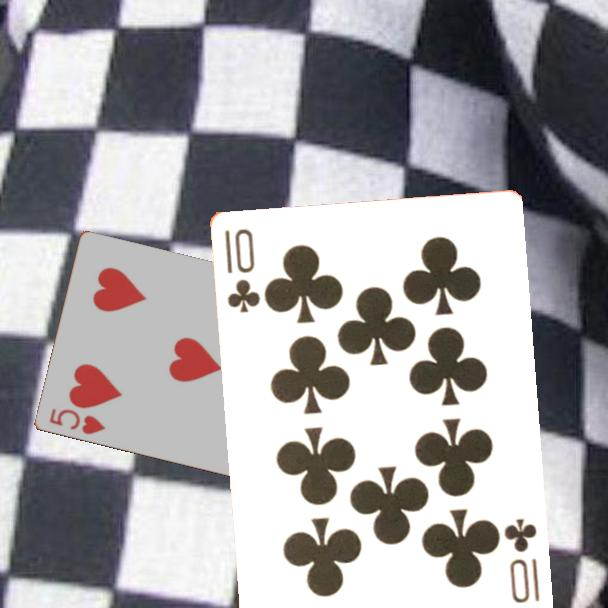c10: (220, 225, 262, 316), (500, 515, 542, 606)
h05: (45, 405, 108, 438)
